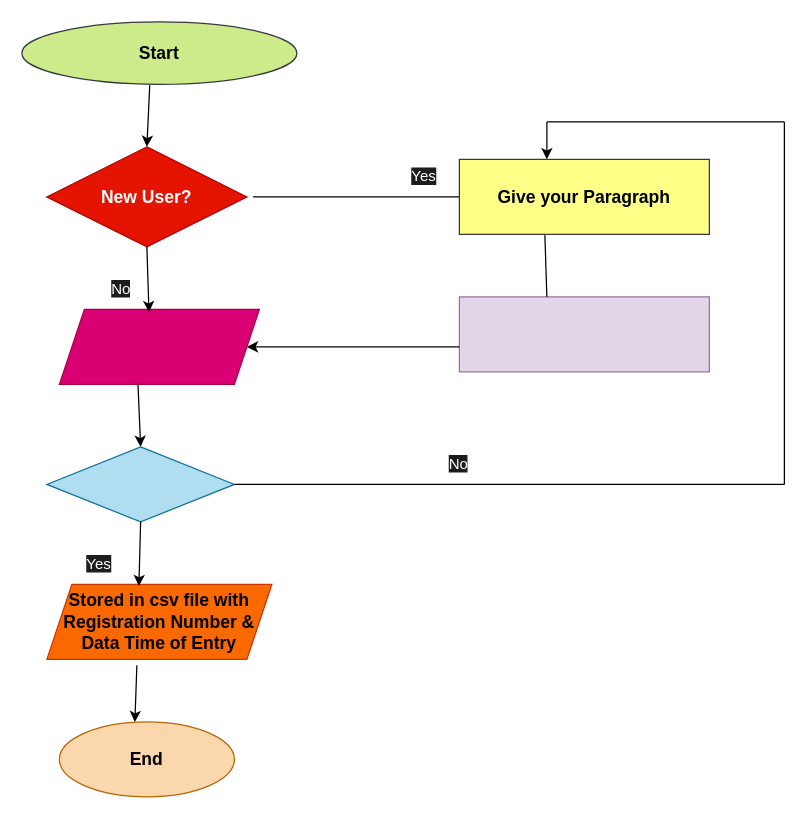
Some shapes in this 808 by 819 pixel diagram are drawn without their labels. The box of each missing label's shape, as (x1, y1, x2, y2) in pixels:
Face Recognized: (46, 446, 234, 522)
Recognize the face face_recognize pv: (58, 308, 259, 384)
Store the face data in folder on your name: (458, 296, 709, 372)
